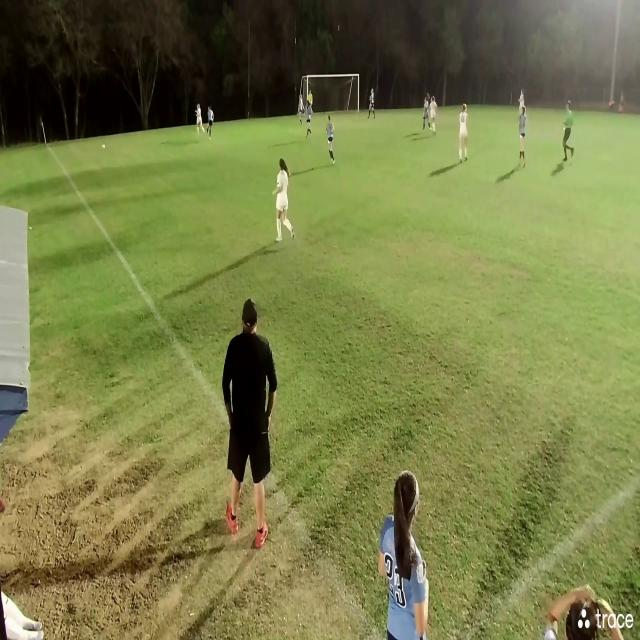Ball: (100, 143, 106, 151)
GoalKeeper: (308, 90, 314, 103)
Referee: (562, 96, 576, 169)
TEAM 1: (372, 460, 447, 640), (518, 105, 529, 169), (326, 115, 337, 166), (422, 92, 433, 133), (305, 100, 314, 138), (368, 87, 376, 123), (206, 106, 214, 140)
TEAM 2: (275, 160, 296, 243), (458, 103, 469, 161), (427, 93, 437, 134), (195, 102, 205, 136), (299, 95, 304, 126), (518, 89, 526, 107)
